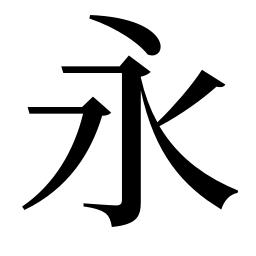D: (87, 10, 167, 55)
HSZ: (100, 56, 152, 90)
Hs: (57, 62, 96, 76)
Ne: (194, 170, 241, 212)
PNc: (146, 109, 175, 139)
PZe: (20, 187, 56, 213)
Ps: (187, 67, 226, 100)
SG: (81, 190, 145, 229)
Sm: (117, 143, 147, 178)
TPZ: (66, 95, 112, 144)
Ts: (24, 104, 45, 119)
